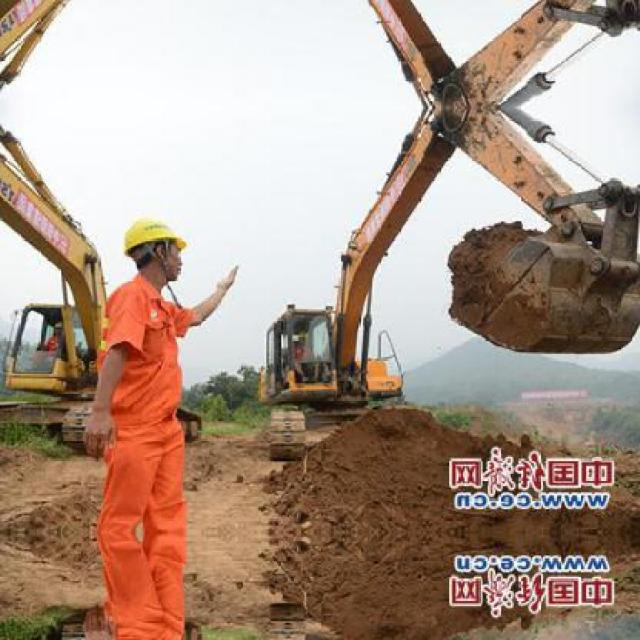Reflective-Jacket: (91, 275, 195, 437)
Safety-Helmet: (116, 208, 192, 260)
